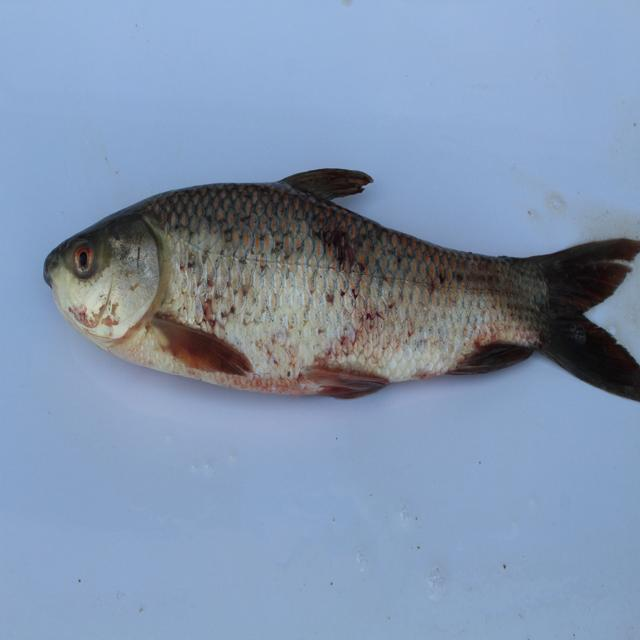Rohu: (26, 171, 640, 415)
